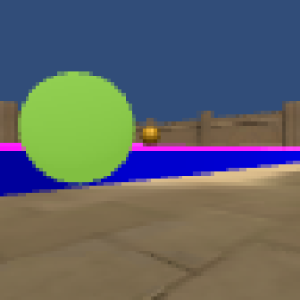goodGoal: (18, 72, 137, 185)
goodGoalMulti: (141, 125, 161, 146)
platform: (140, 151, 300, 187), (1, 152, 18, 196)
ramp: (137, 141, 299, 153), (2, 143, 17, 151)
